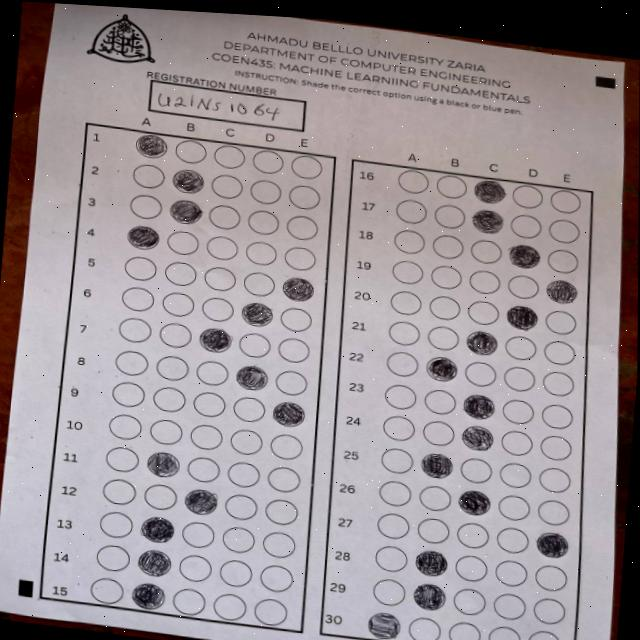bubble: (136, 547, 173, 578), (131, 580, 166, 611), (139, 514, 175, 544), (366, 610, 401, 640), (414, 548, 448, 578), (412, 581, 446, 611), (183, 487, 218, 516), (535, 530, 570, 559), (146, 449, 180, 478), (457, 488, 491, 517), (460, 424, 495, 452), (135, 133, 169, 161), (126, 223, 160, 251), (470, 207, 504, 235), (281, 275, 315, 303), (198, 326, 232, 354), (169, 198, 203, 226), (461, 392, 495, 420), (235, 363, 269, 391), (271, 399, 305, 427), (545, 277, 578, 305), (507, 242, 540, 270), (505, 304, 538, 332), (419, 451, 452, 479), (473, 178, 507, 205), (425, 355, 459, 382), (171, 167, 204, 194), (241, 300, 274, 327), (466, 329, 499, 356)
